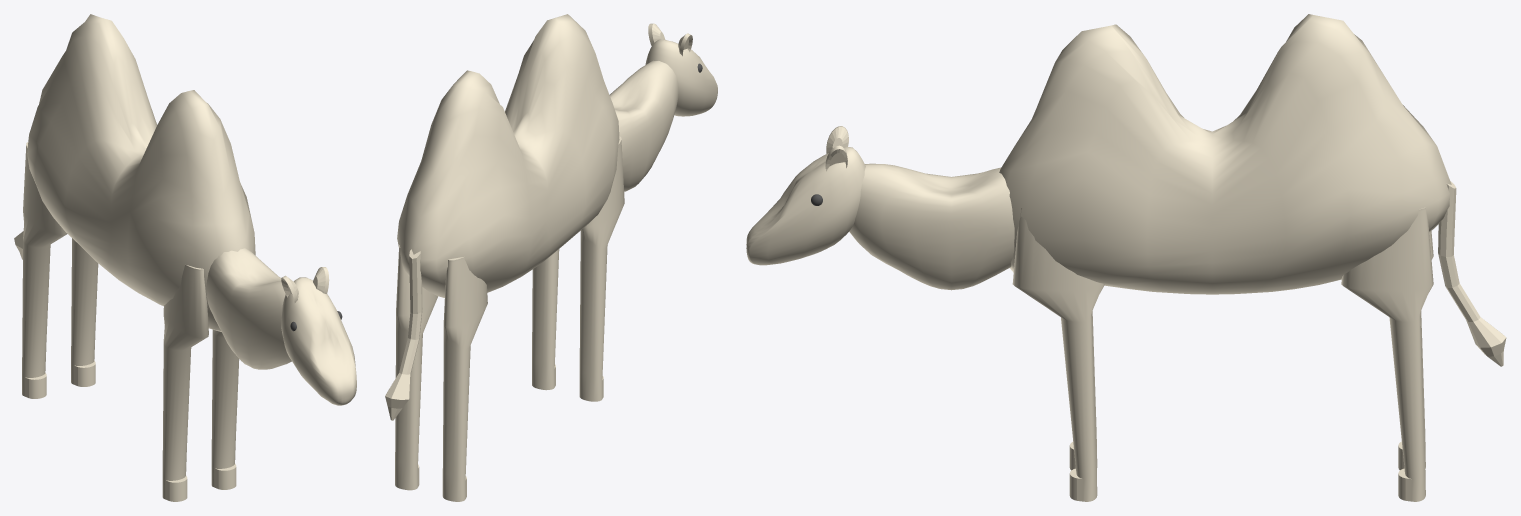
The model's file is Nakta.fbx.
3 renders of one model, left to right at view 1: azimuth 30°, elevation 25°; view 2: azimuth 150°, elevation 25°; view 3: azimuth 270°, elevation 25°, orthographic. The views are drawn at different scales.
Parts seen in each view (by area): view 1: pSphere41, pSphere42, pCylinder67, pSphere45, pCylinder66, pCylinder68, pCylinder65; view 2: pSphere41, pCylinder66, pCylinder67, pSphere42, pCylinder65, pCylinder68, pSphere45, pCylinder71; view 3: pSphere41, pSphere42, pCylinder65, pCylinder68, pSphere45, pCylinder71.
Part boxes in pixels (x1=…): pSphere41: x1=27, y1=14, x2=255, y2=331; pSphere42: x1=206, y1=248, x2=291, y2=369; pCylinder67: x1=162, y1=264, x2=208, y2=501; pSphere45: x1=281, y1=277, x2=356, y2=405; pCylinder66: x1=22, y1=142, x2=67, y2=398; pCylinder68: x1=211, y1=329, x2=239, y2=489; pCylinder65: x1=71, y1=238, x2=98, y2=386; pSphere41: x1=397, y1=14, x2=619, y2=297; pCylinder66: x1=442, y1=256, x2=487, y2=501; pCylinder67: x1=579, y1=136, x2=624, y2=401; pSphere42: x1=609, y1=60, x2=678, y2=191; pCylinder65: x1=395, y1=245, x2=437, y2=490; pCylinder68: x1=532, y1=249, x2=559, y2=390; pSphere45: x1=645, y1=39, x2=717, y2=116; pCylinder71: x1=385, y1=249, x2=422, y2=420; pSphere41: x1=999, y1=14, x2=1451, y2=294; pSphere42: x1=849, y1=163, x2=1014, y2=290; pCylinder65: x1=1341, y1=207, x2=1433, y2=501; pCylinder68: x1=1012, y1=208, x2=1104, y2=501; pSphere45: x1=746, y1=146, x2=865, y2=265; pCylinder71: x1=1438, y1=181, x2=1506, y2=366.
Size of the model in its own units: 2.28 by 8.23 by 12.13.
